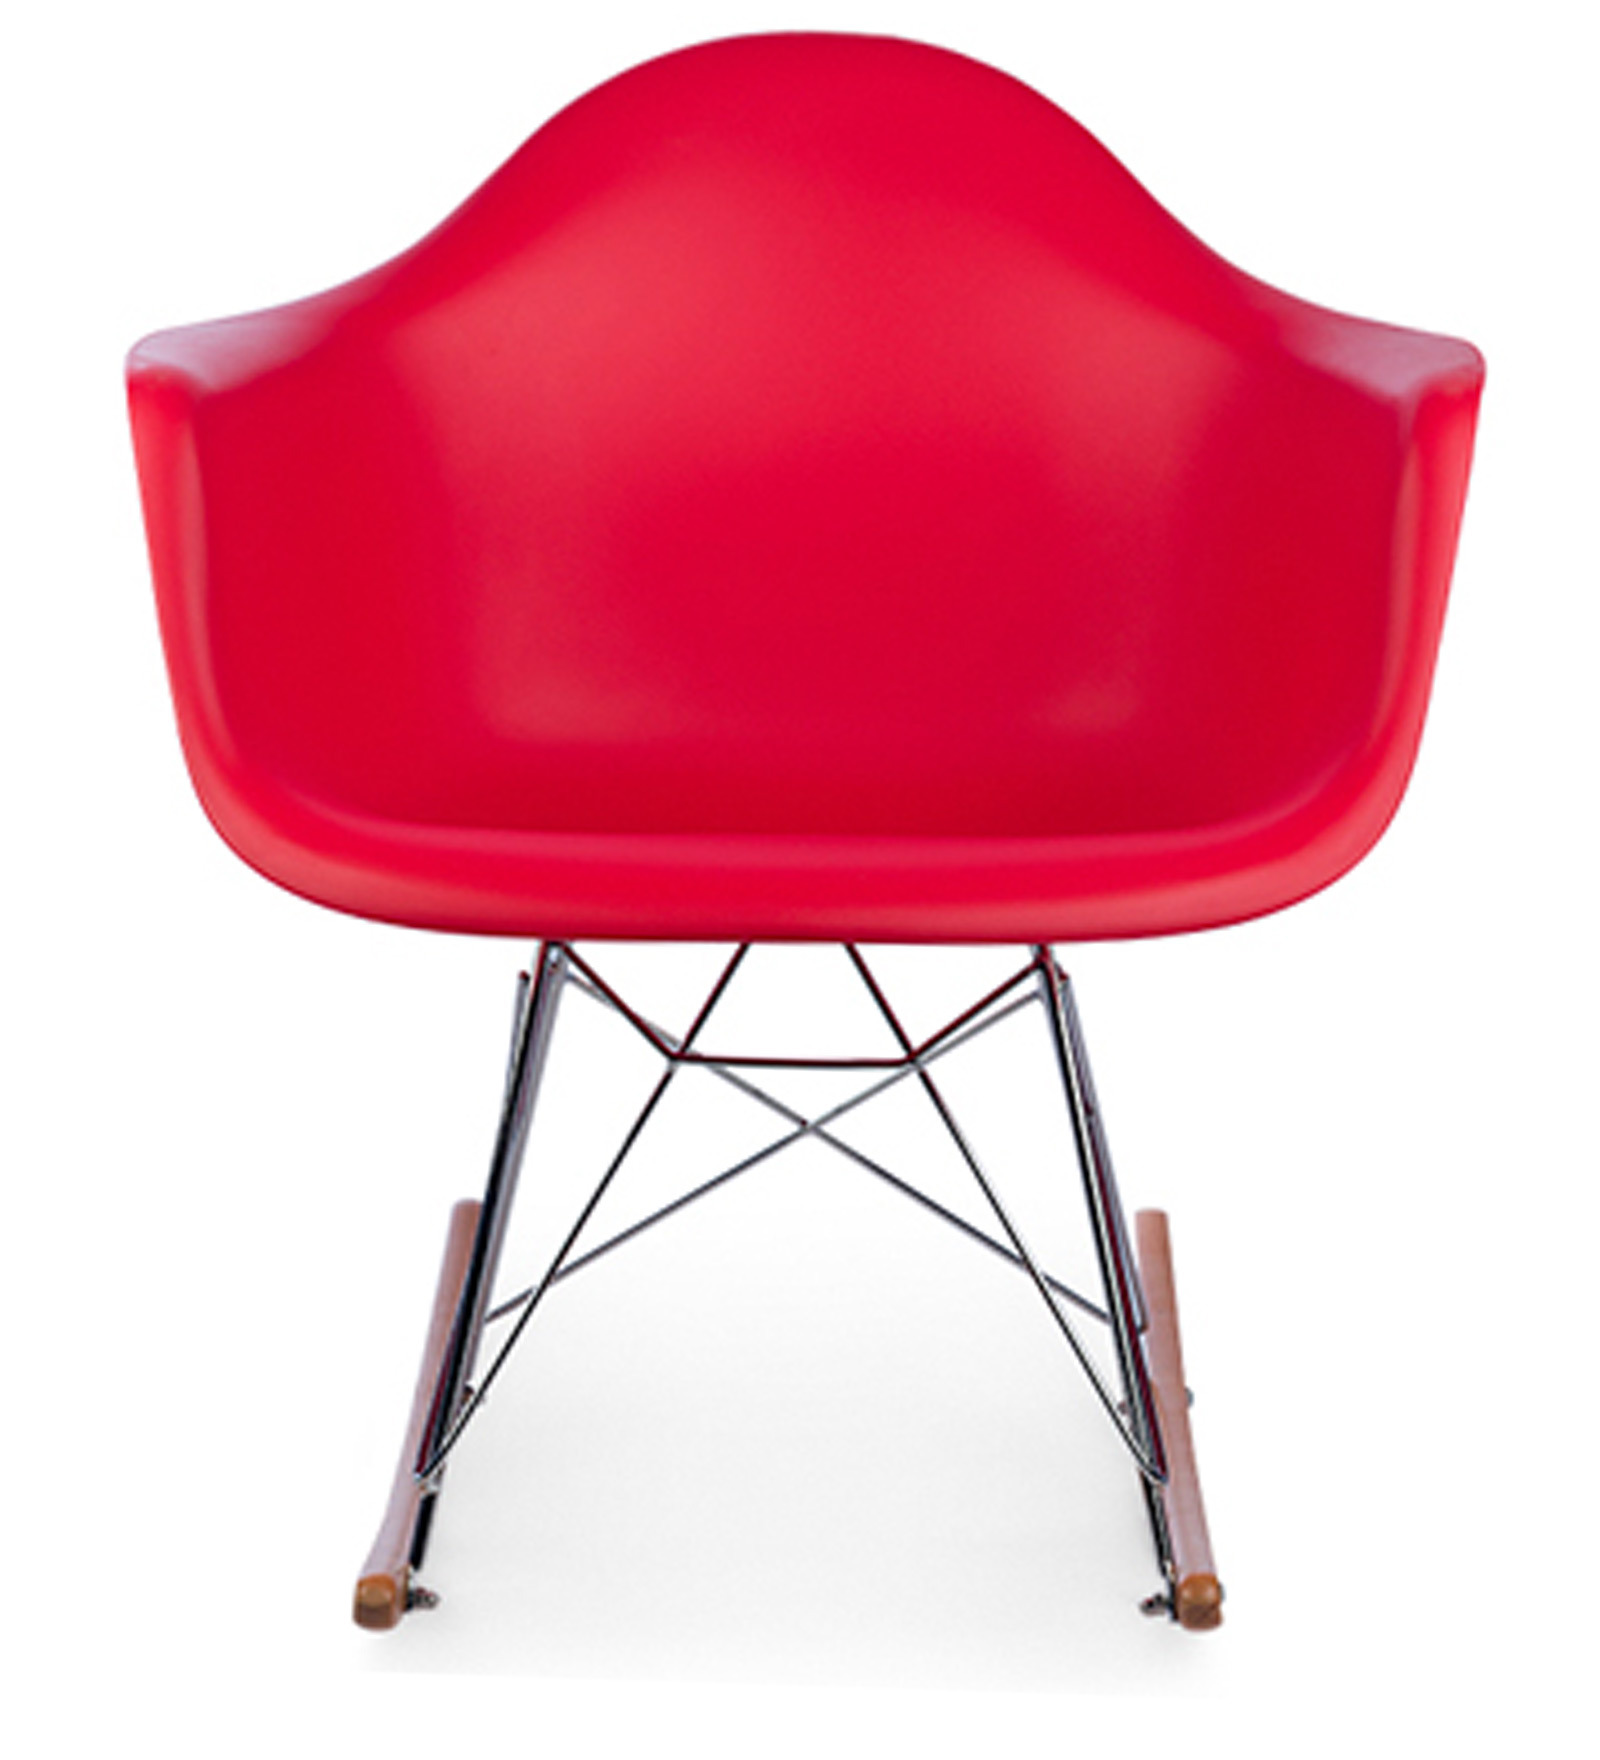Daytona Beach Club Rocking Chair in Rocking Red Colour by HomeHQ: (63, 20, 1517, 1643)
